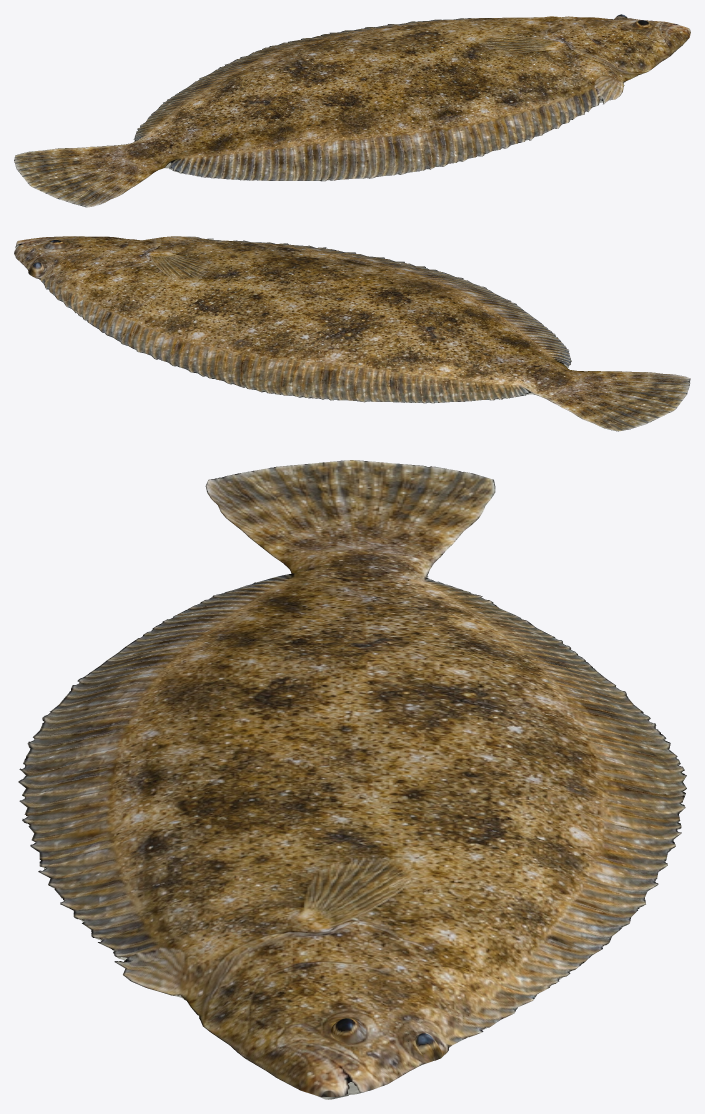
Rendered from olive-flounder.glb.
3 renders of one model, top to bottom at view 1: azimuth 30°, elevation 25°; view 2: azimuth 150°, elevation 25°; view 3: azimuth 270°, elevation 25°, orthographic. The views are drawn at different scales.
Parts seen in each view (by area): view 1: Paralichthys olivaceus; view 2: Paralichthys olivaceus; view 3: Paralichthys olivaceus.
Boxes of the visible parts, x1,y1,x2,y2 form: Paralichthys olivaceus: (14,14,690,207); Paralichthys olivaceus: (14,236,690,431); Paralichthys olivaceus: (18,460,686,1099).
Size of the model in its own units: 0.57 by 0.0331 by 0.2531.
Materials: 1 (1 with a texture image).
